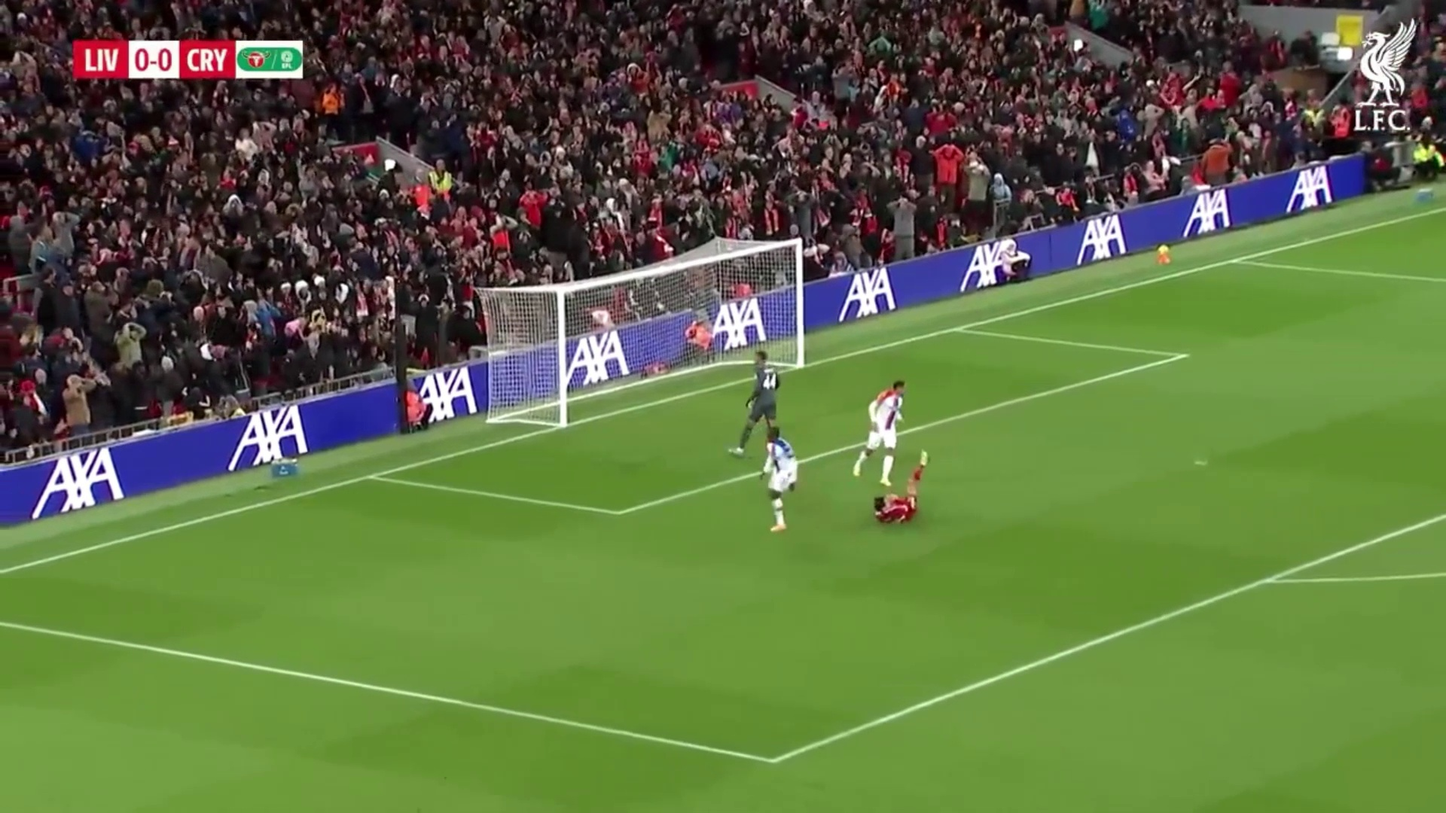player: (852, 381, 909, 485), (729, 362, 781, 457), (875, 449, 929, 524), (764, 425, 798, 533)
